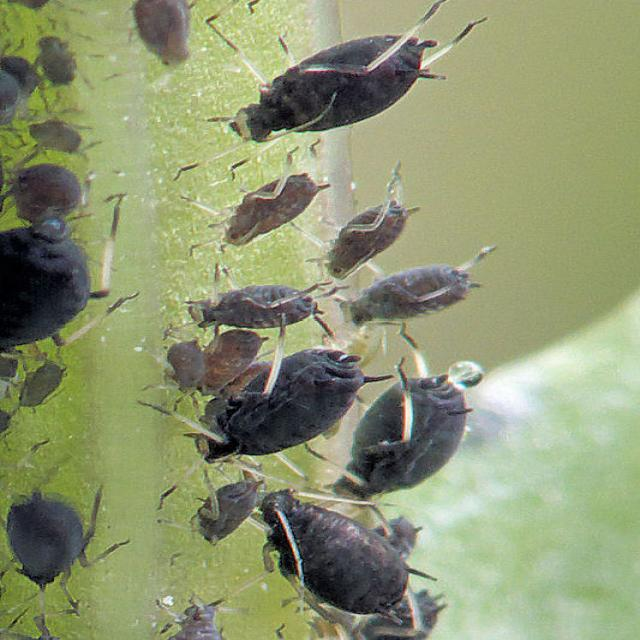Aphid-Grown-: (189, 8, 486, 149), (236, 486, 440, 626), (324, 353, 489, 518), (184, 338, 362, 477), (1, 479, 135, 621), (330, 248, 499, 338), (190, 164, 328, 253), (312, 188, 431, 288), (0, 144, 109, 239), (182, 271, 336, 338), (12, 30, 109, 102)
